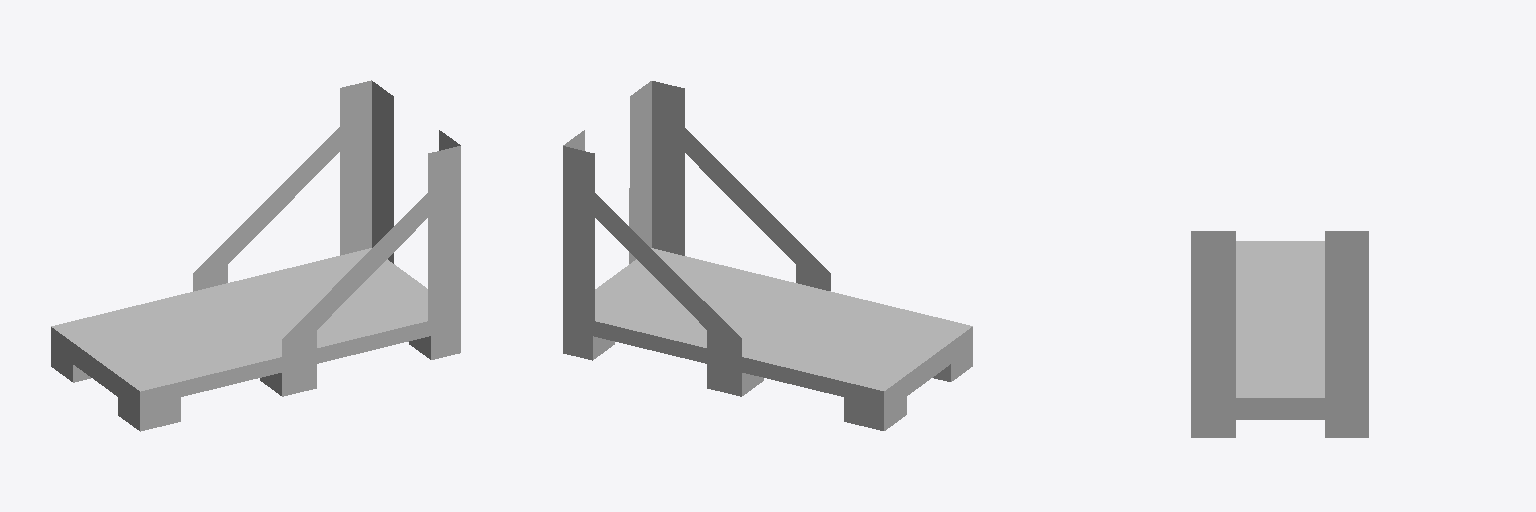
The model's file is pier1.obj.
3 renders of one model, left to right at view 1: azimuth 30°, elevation 25°; view 2: azimuth 150°, elevation 25°; view 3: azimuth 270°, elevation 25°, orthographic.
Visible parts, largest first — view 1: Plane.004_Plane.005; view 2: Plane.004_Plane.005; view 3: Plane.004_Plane.005.
Boxes of the visible parts, x1,y1,x2,y2 form: Plane.004_Plane.005: [51, 80, 460, 431]; Plane.004_Plane.005: [563, 81, 972, 430]; Plane.004_Plane.005: [1191, 231, 1368, 437].
Size of the model in its own units: 389 by 240 by 188.